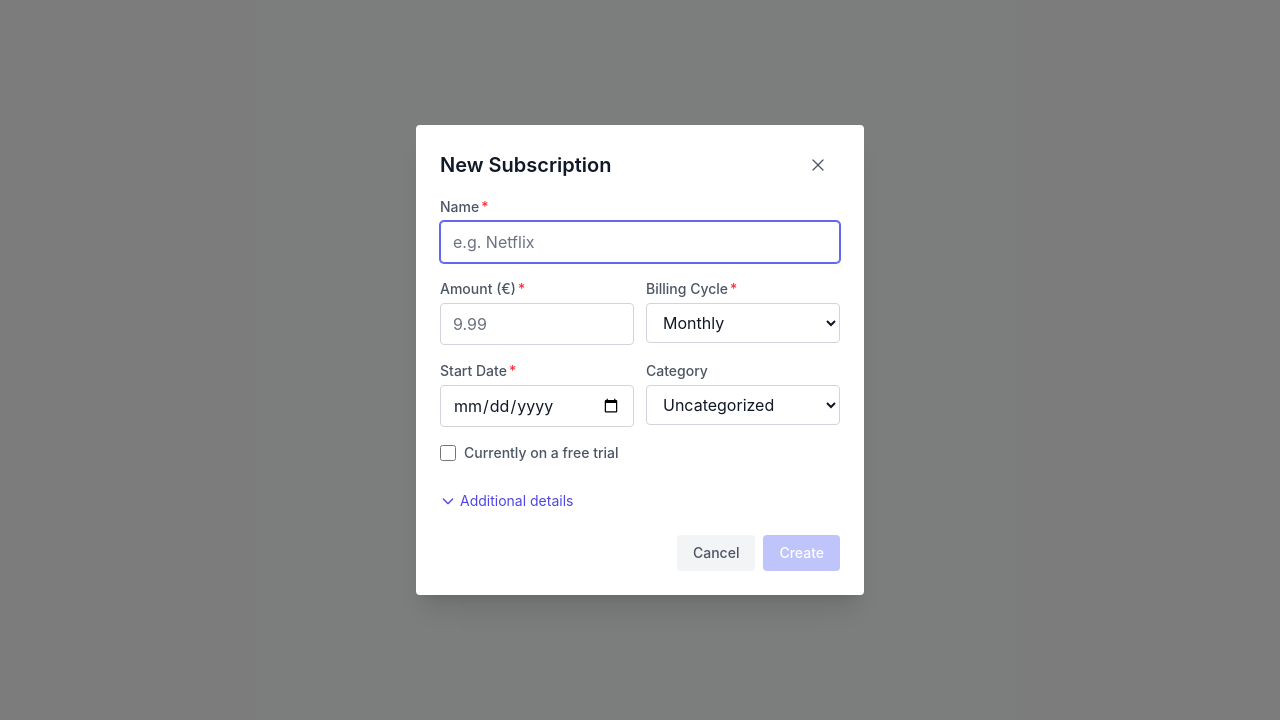
Test: CreateSubscriptionModal › reveals Additional details fields when the section is expanded
Click the button "Additional details". click: x=507, y=501
box: [440,491,573,511]
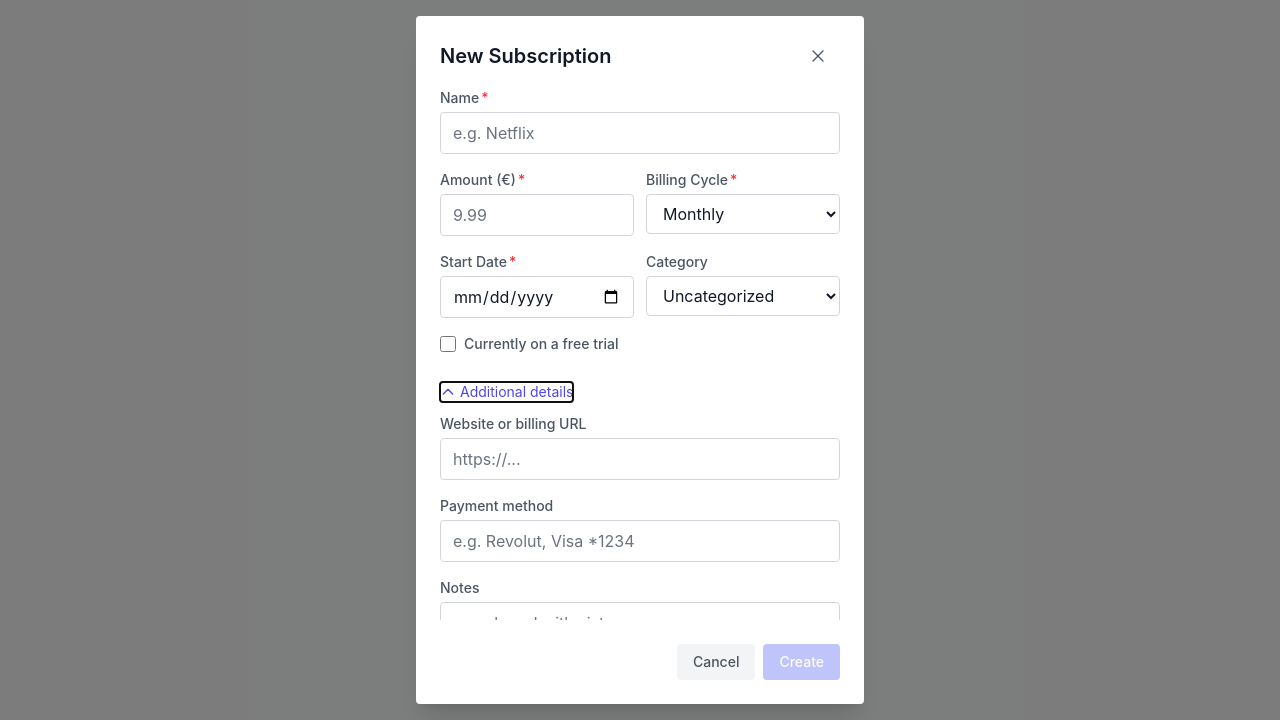
Expected: the field labelled "Payment method" is shown, [440,520,840,562]
